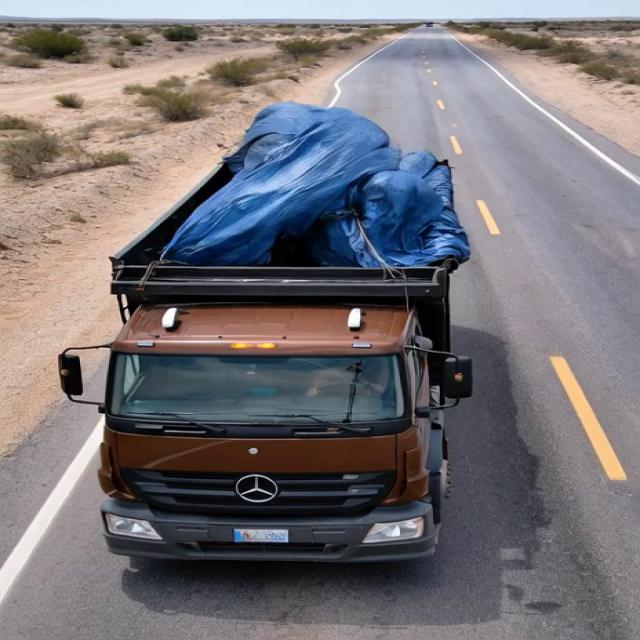trailer: (105, 119, 482, 284)
truck: (49, 109, 529, 566)
